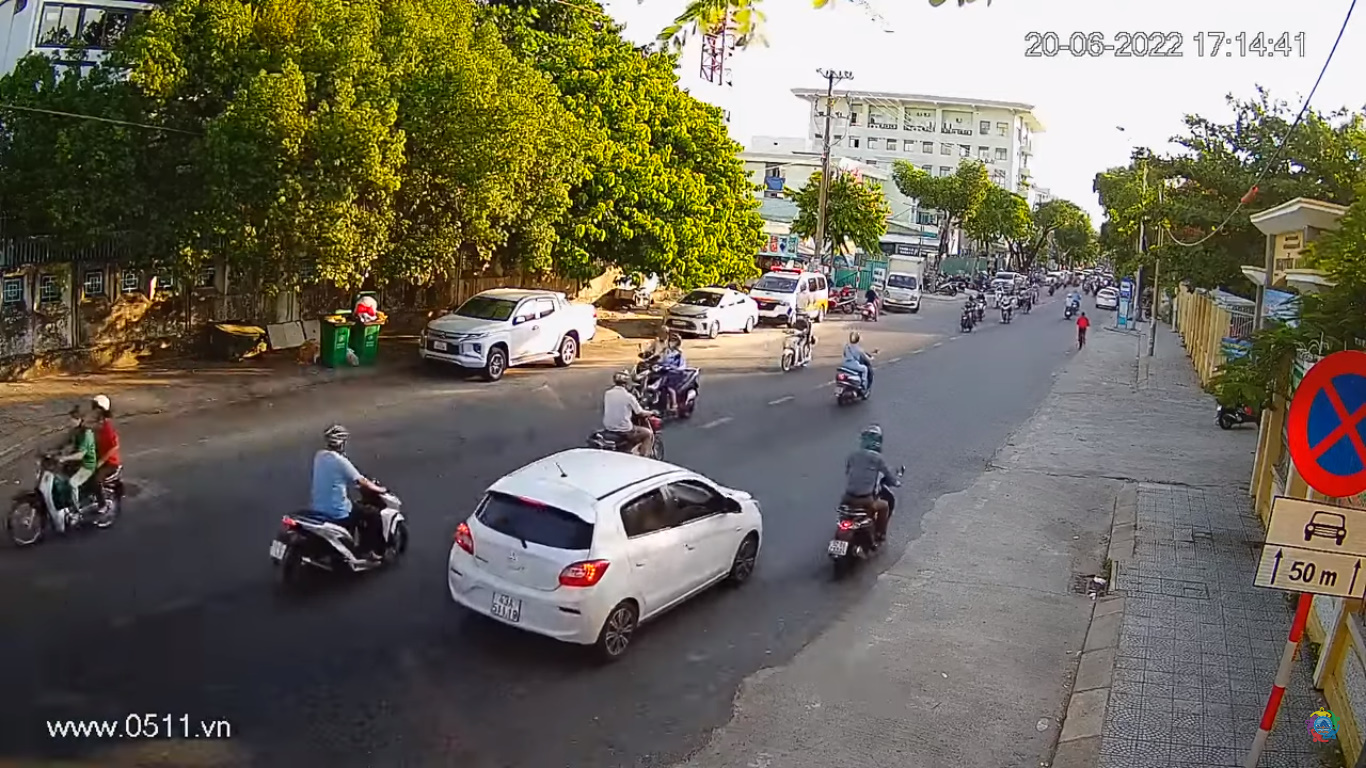car: (442, 447, 761, 653)
